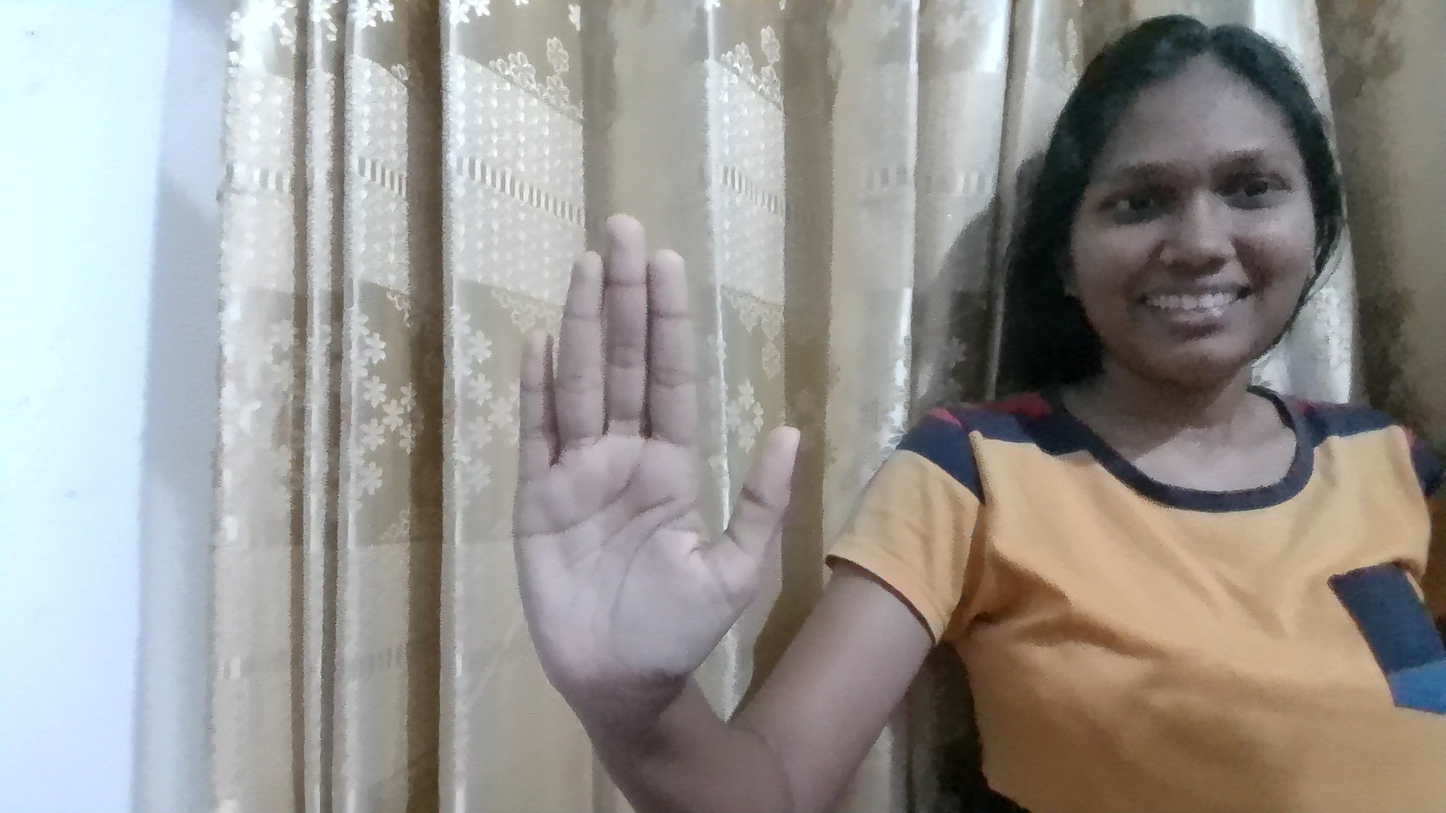Hello: (486, 129, 831, 709)
